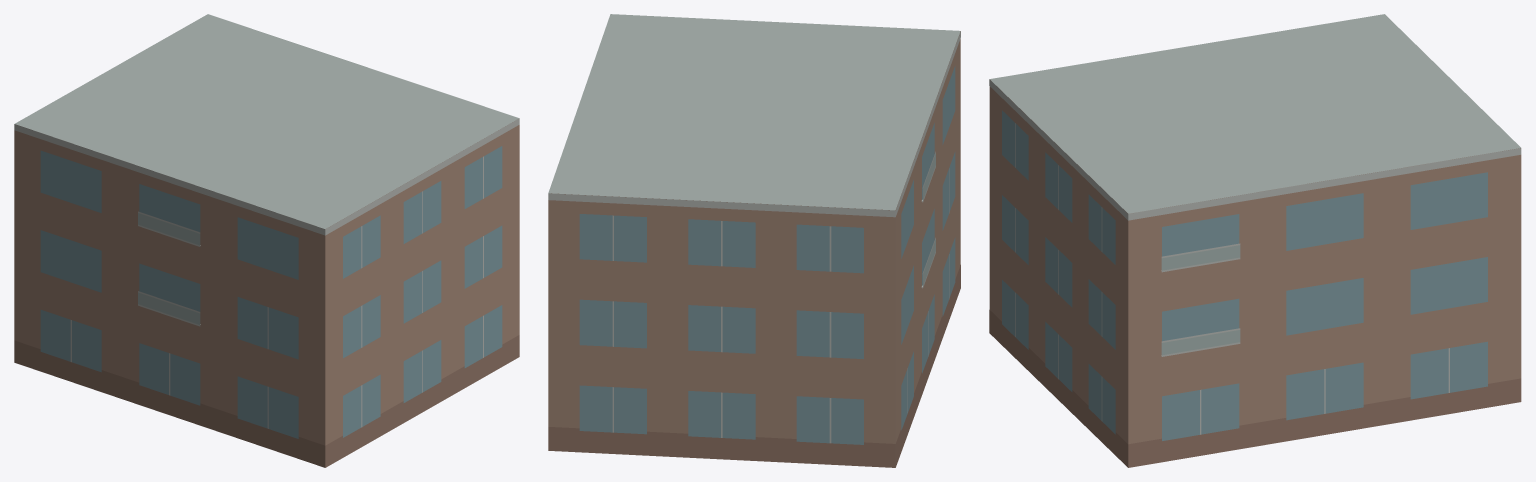
Rendered from survey-upis-32758774.glb.
3 renders of one model, left to right at view 1: azimuth 30°, elevation 25°; view 2: azimuth 150°, elevation 25°; view 3: azimuth 270°, elevation 25°, orthographic. The views are drawn at different scales.
Parts seen in each view (by area): view 1: survey-upis-32758774.tmp; view 2: survey-upis-32758774.tmp; view 3: survey-upis-32758774.tmp.
Part boxes in pixels (<box>): survey-upis-32758774.tmp: <box>14,14,519,467</box>; survey-upis-32758774.tmp: <box>548,14,960,467</box>; survey-upis-32758774.tmp: <box>989,14,1521,467</box>.
Size of the model in its own units: 15.45 by 9.15 by 17.37.
